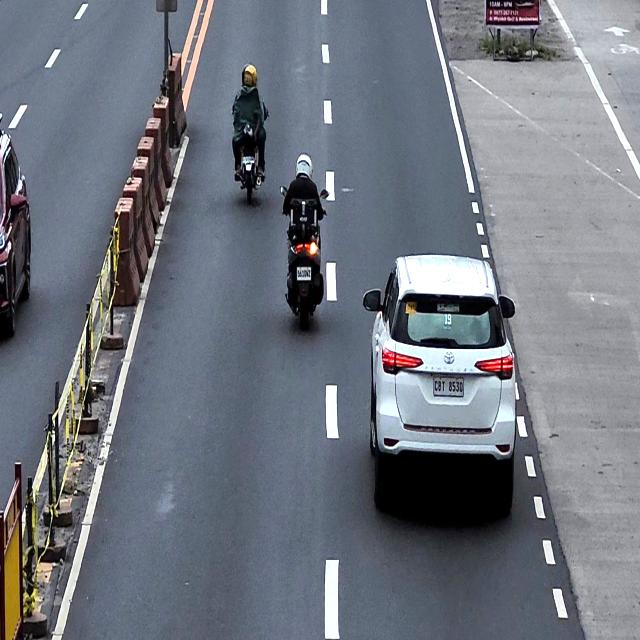Car: (362, 252, 517, 514), (0, 118, 31, 336)
License-Plate: (432, 373, 465, 398), (296, 265, 312, 282), (241, 154, 256, 164)
Motorcycle: (279, 184, 329, 328), (232, 106, 269, 205)
